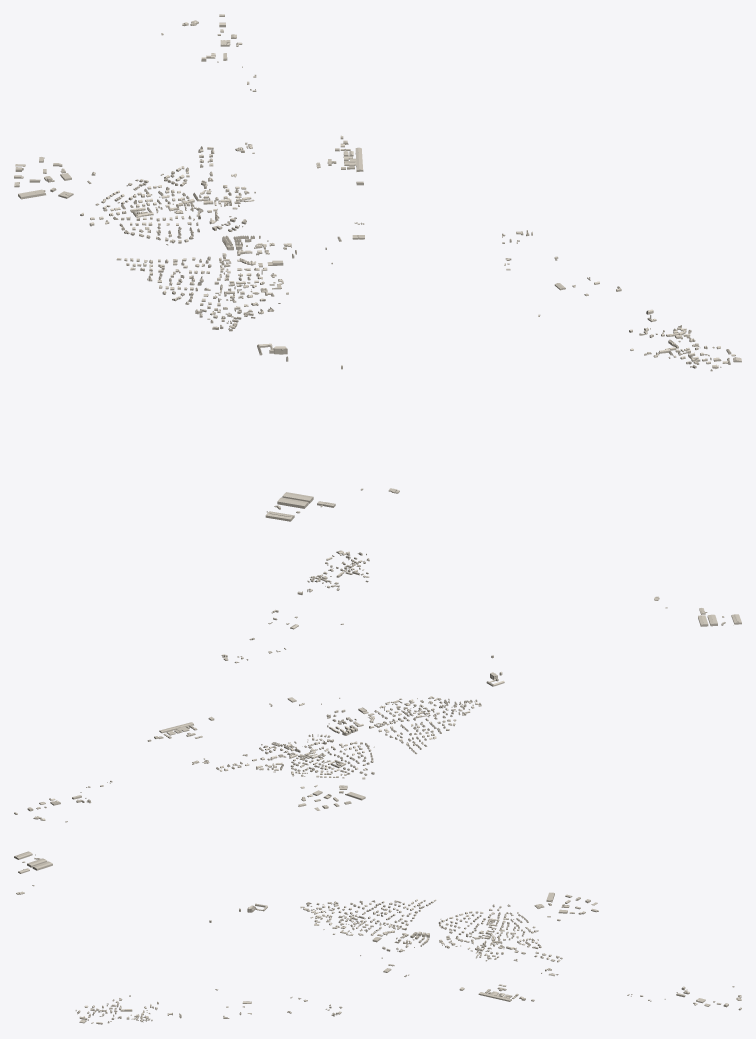
3 renders of one model, top to bottom at view 1: azimuth 30°, elevation 25°; view 2: azimuth 150°, elevation 25°; view 3: azimuth 270°, elevation 25°, orthographic. The views are drawn at different scales.
Bounding box in the file's own units: 2013 × 38.77 × 3589.
